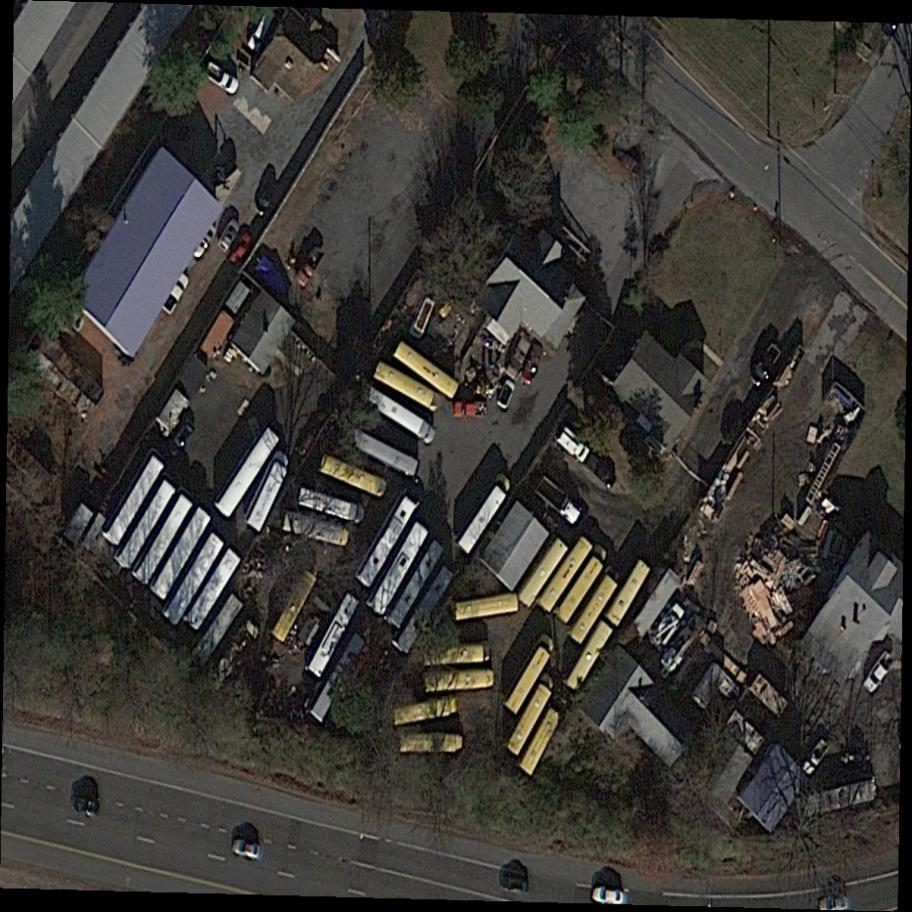large-vehicle: (148, 504, 215, 602), (214, 427, 283, 520), (131, 493, 198, 587), (366, 521, 432, 616), (161, 533, 226, 627), (355, 496, 418, 590), (115, 478, 179, 570), (104, 457, 167, 548), (392, 567, 457, 654), (357, 383, 440, 448), (184, 548, 245, 631), (388, 541, 445, 629), (307, 591, 362, 680), (500, 634, 558, 717), (566, 564, 624, 646), (537, 536, 596, 614), (455, 477, 514, 555), (552, 547, 610, 626), (505, 676, 559, 757), (392, 340, 463, 400), (563, 621, 616, 695), (518, 537, 571, 608), (270, 571, 320, 644), (516, 708, 567, 779), (317, 455, 391, 500), (605, 561, 653, 627), (372, 362, 439, 409), (530, 475, 588, 529), (281, 512, 352, 550), (297, 487, 368, 525), (392, 695, 459, 727), (651, 599, 687, 649), (453, 594, 519, 621), (423, 642, 491, 667), (425, 669, 495, 693), (401, 735, 462, 753)
ship: (250, 253, 296, 299)
small-vehicle: (156, 269, 196, 320), (201, 59, 247, 99), (552, 423, 594, 465), (289, 244, 328, 287), (862, 649, 898, 694), (187, 220, 224, 263), (248, 180, 284, 222), (165, 420, 201, 460), (799, 736, 832, 779), (585, 454, 620, 488), (226, 231, 256, 270), (518, 344, 544, 386), (66, 792, 104, 819), (587, 885, 632, 907), (216, 218, 244, 253), (226, 836, 263, 861), (495, 874, 533, 895), (496, 378, 517, 411), (453, 401, 487, 418)
